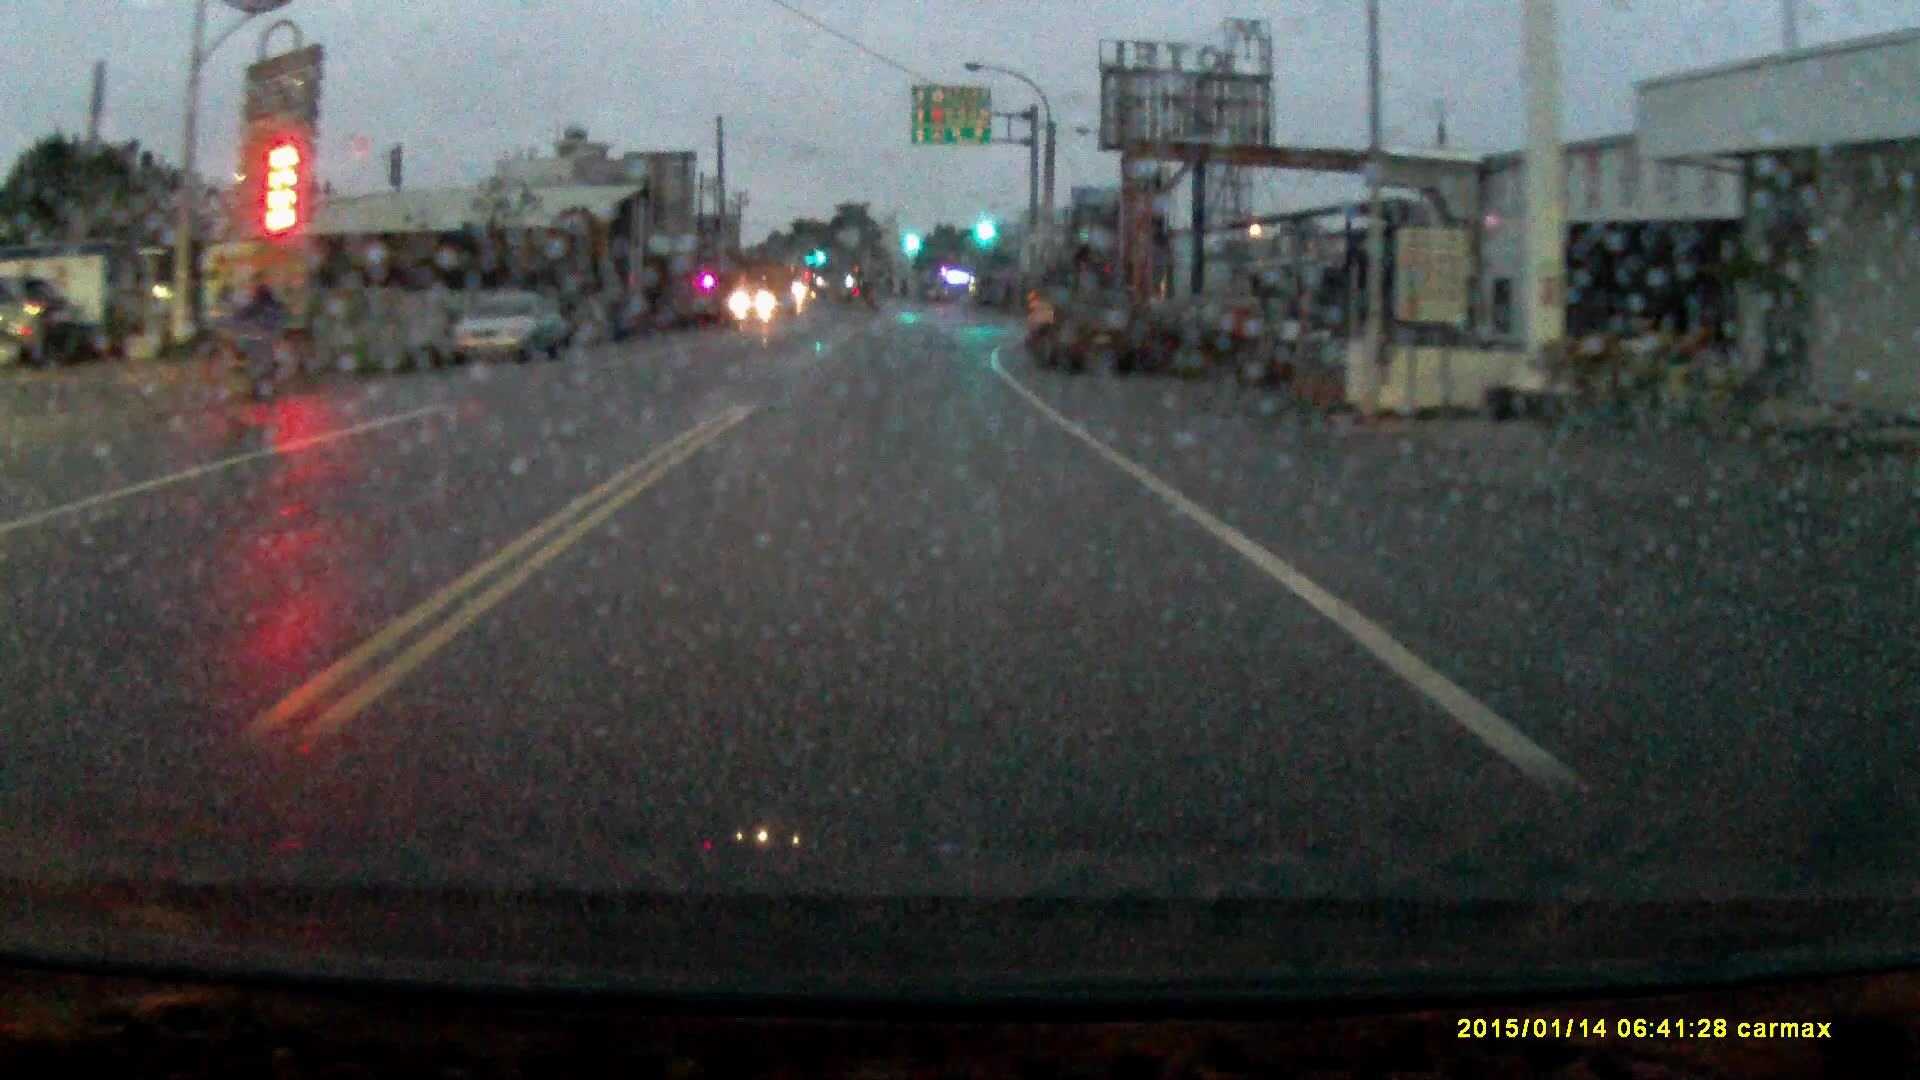rider: (201, 252, 304, 449)
vehicle: (1027, 261, 1138, 376), (448, 293, 571, 363), (1, 279, 90, 375), (734, 263, 794, 326)
